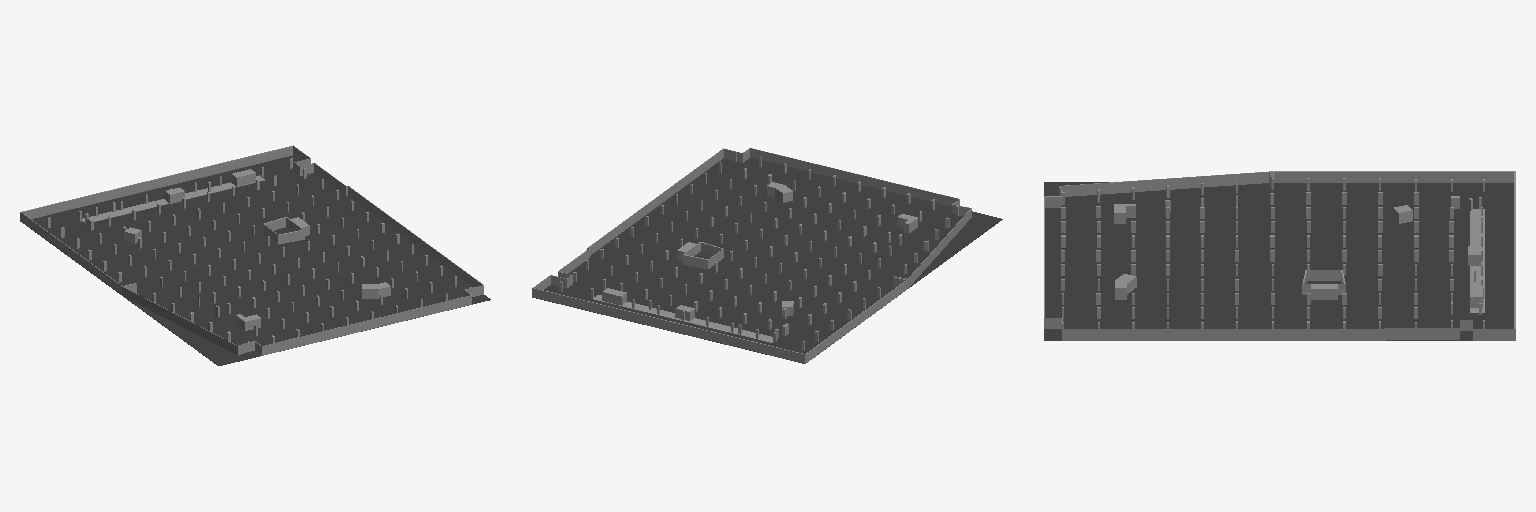
--- Facts derived from the render (not from the file) ---
The picture shows the robot from 3 angles, left to right: view 1: azimuth 30°, elevation 25°; view 2: azimuth 150°, elevation 25°; view 3: azimuth 270°, elevation 25°; orthographic projection.
Model P1 with 4 links and 3 joints (3 fixed), rooted at world, posed all joints at 0.
Links seen in each view (by area): view 1: ground, outer_wall, stairs; view 2: ground, outer_wall, stairs; view 3: ground, outer_wall, stairs.
Boxes of the visible links, bbox=[...] form: ground: bbox=[20, 156, 490, 365]; outer_wall: bbox=[20, 145, 483, 355]; stairs: bbox=[47, 158, 456, 343]; ground: bbox=[536, 158, 1002, 363]; outer_wall: bbox=[532, 148, 971, 363]; stairs: bbox=[559, 157, 949, 350]; ground: bbox=[1044, 182, 1513, 340]; outer_wall: bbox=[1044, 171, 1515, 340]; stairs: bbox=[1061, 178, 1484, 328].
Size in the robot's own frame: 92.5 by 116 by 3.1 metres.
Geometry: primitives only (box / cylinder / sphere), no mesh files.

The robot description file, URDF, robot "P1":
<?xml version="1.0" ?>
<robot name="P1">

  <link name="world">
  </link>

  <joint name="world_to_ground" type="fixed">
    <parent link="world"/>
    <child link="ground"/>
  </joint>

  <joint name="world_to_stairs" type="fixed">
    <parent link="world"/>
    <child link="stairs"/>
  </joint>

  <joint name="world_to_outer_wall" type="fixed">
    <parent link="world"/>
    <child link="outer_wall"/>
    <origin rpy="0  0  0" xyz="0  0  0"/>
  </joint>

  <link name="outer_wall">
    <collision name="__1">
      <origin rpy="0  0  0" xyz="-1.33208  44.13956   1.524"/>
      <geometry>
        <box size=".225778 79.78978 3.048"/>
      </geometry>
    </collision>
    <visual name="__1">
      <origin rpy="0  0  0" xyz="-1.33208  44.13956   1.524"/>
      <geometry>
        <box size=".225778 79.78978 3.048"/>
      </geometry>
      <material name="grey">
        <color rgba="0.627 0.627 0.627 1"/>
      </material>
    </visual>
    <visual name="__2">
      <origin rpy="0  0  0" xyz="-1.64817  83.9216    1.524"/>
      <geometry>
        <box size=".4064 .225778 3.048"/>
      </geometry>
      <material name="grey">
        <color rgba="0.627 0.627 0.627 1"/>
      </material>
    </visual>
    <visual name="__3">
      <origin rpy="0  0  0" xyz="-1.94169  93.06719   1.524"/>
      <geometry>
        <box size=".180622 18.51378 3.048"/>
      </geometry>
      <material name="grey">
        <color rgba="0.627 0.627 0.627 1"/>
      </material>
    </visual>
    <visual name="__4">
      <origin rpy="0  0  0" xyz="-4.38009  102.4144     1.524"/>
      <geometry>
        <box size="5.057422 .180622 3.048"/>
      </geometry>
      <material name="grey">
        <color rgba="0.627 0.627 0.627 1"/>
      </material>
    </visual>
    <visual name="__5">
      <origin rpy="0  0  0" xyz="-6.81849  104.0384     1.524"/>
      <geometry>
        <box size=".180622 3.070578 3.048"/>
      </geometry>
      <material name="grey">
        <color rgba="0.627 0.627 0.627 1"/>
      </material>
    </visual>
    <visual name="__6">
      <origin rpy="0  0  0" xyz="-4.064   105.6656    1.524"/>
      <geometry>
        <box size="5.6896 .180622 3.048"/>
      </geometry>
      <material name="grey">
        <color rgba="0.627 0.627 0.627 1"/>
      </material>
    </visual>
    <visual name="__7">
      <origin rpy="0  0  0" xyz="-1.3305  110.9472    1.524"/>
      <geometry>
        <box size=".225778 10.38578 3.048"/>
      </geometry>
      <material name="grey">
        <color rgba="0.627 0.627 0.627 1"/>
      </material>
    </visual>
    <visual name="__8">
      <origin rpy="0  0  0" xyz="-47.4577  115.982     1.524"/>
      <geometry>
        <box size="92.02861 .316088 3.048"/>
      </geometry>
      <material name="grey">
        <color rgba="0.627 0.627 0.627 1"/>
      </material>
    </visual>
    <visual name="__9">
      <origin rpy="0  0  0" xyz="-3.22862  4.17688  1.524"/>
      <geometry>
        <box size="4.017256 .135466 3.048"/>
      </geometry>
      <material name="grey">
        <color rgba="0.627 0.627 0.627 1"/>
      </material>
    </visual>
    <visual name="__10">
      <origin rpy="0  0  0" xyz="-6.92979  4.19946  1.524"/>
      <geometry>
        <box size="2.122312 .180622 3.048"/>
      </geometry>
      <material name="grey">
        <color rgba="0.627 0.627 0.627 1"/>
      </material>
    </visual>
    <visual name="__11">
      <origin rpy="0  0  0" xyz="-5.55347  4.40266  1.524"/>
      <geometry>
        <box size=".633766 .587022 3.048"/>
      </geometry>
      <material name="grey">
        <color rgba="0.627 0.627 0.627 1"/>
      </material>
    </visual>
    <visual name="__12">
      <origin rpy="0  0  0" xyz="-7.87964  2.05458  1.524"/>
      <geometry>
        <box size=".225778 4.109156 3.048"/>
      </geometry>
      <material name="grey">
        <color rgba="0.627 0.627 0.627 1"/>
      </material>
    </visual>
    <visual name="__13">
      <origin rpy="0  0  0" xyz="-43.3042   -0.09031   1.524"/>
      <geometry>
        <box size="71.07484 .180622 3.048"/>
      </geometry>
      <material name="grey">
        <color rgba="0.627 0.627 0.627 1"/>
      </material>
    </visual>
    <visual name="__14">
      <origin rpy="0  0  0" xyz="-78.9561   2.032    1.524"/>
      <geometry>
        <box size=".225778 4.064 3.048"/>
      </geometry>
      <material name="grey">
        <color rgba="0.627 0.627 0.627 1"/>
      </material>
    </visual>
    <visual name="__15">
      <origin rpy="0  0  0" xyz="-79.7689    4.15432   1.524"/>
      <geometry>
        <box size="1.851378 .180622 3.048"/>
      </geometry>
      <material name="grey">
        <color rgba="0.627 0.627 0.627 1"/>
      </material>
    </visual>
    <visual name="__16">
      <origin rpy="0  0  0" xyz="-80.9865    4.42524   1.524"/>
      <geometry>
        <box size=".588609 .903112 3.048"/>
      </geometry>
      <material name="grey">
        <color rgba="0.627 0.627 0.627 1"/>
      </material>
    </visual>
    <visual name="__17">
      <origin rpy="0       0       0.16062" xyz="-83.193     3.84435   1.524"/>
      <geometry>
        <box size="3.904381 .17833 3.048"/>
      </geometry>
      <material name="grey">
        <color rgba="0.627 0.627 0.627 1"/>
      </material>
    </visual>
    <visual name="__18">
      <origin rpy="0       0       0.16095" xyz="-89.3362   30.07934   1.524"/>
      <geometry>
        <box size=".187107 53.5695 3.048"/>
      </geometry>
      <material name="grey">
        <color rgba="0.627 0.627 0.627 1"/>
      </material>
    </visual>
    <visual name="__19">
      <origin rpy="0  0  0" xyz="-93.58492  86.33901   1.524"/>
      <geometry>
        <box size=".225778 59.6069 3.048"/>
      </geometry>
      <material name="grey">
        <color rgba="0.627 0.627 0.627 1"/>
      </material>
    </visual>
    <visual name="__20">
      <origin rpy="0  0  0" xyz="-91.7351   56.42187   1.524"/>
      <geometry>
        <box size="3.475391 .22578 3.048"/>
      </geometry>
      <material name="grey">
        <color rgba="0.627 0.627 0.627 1"/>
      </material>
    </visual>
    <visual name="__21">
      <origin rpy="0      0      0.1615" xyz="-91.6656   55.74328   1.524"/>
      <geometry>
        <box size="3.421301 .22287 3.048"/>
      </geometry>
      <material name="grey">
        <color rgba="0.627 0.627 0.627 1"/>
      </material>
    </visual>
    <visual name="__22">
      <origin rpy="0  0  0" xyz="-89.5209   56.21708   1.524"/>
      <geometry>
        <box size=".948266 .63218 3.048"/>
      </geometry>
      <material name="grey">
        <color rgba="0.627 0.627 0.627 1"/>
      </material>
    </visual>
  </link>
  <link name="stairs">
<!--     <inertial>
      <mass value="1"/>
      <origin rpy="0  0  0" xyz="0  0  0"/>
      <inertia ixx="100" ixy="0" ixz="0" iyy="100" iyz="0" izz="100"/>
    </inertial> -->
    <collision name="__23">
      <origin rpy="0  0  0" xyz="-72.0231  18.4912   1.524"/>
      <geometry>
        <box size="5.508978 2.8448 3.048"/>
      </geometry>
    </collision>
    <visual name="__23">
      <origin rpy="0  0  0" xyz="-72.0231  18.4912   1.524"/>
      <geometry>
        <box size="5.508978 2.8448 3.048"/>
      </geometry>
      <material name="grey">
        <color rgba="0.627 0.627 0.627 1"/>
      </material>
    </visual>
    <visual name="__24">
      <origin rpy="0  0  0" xyz="-73.9648   21.22312   1.524"/>
      <geometry>
        <box size="1.6256 2.61902 3.048"/>
      </geometry>
      <material name="grey">
        <color rgba="0.627 0.627 0.627 1"/>
      </material>
    </visual>
    <visual name="__25">
      <origin rpy="0      0      0.4704" xyz="-71.6619   88.32427   1.524"/>
      <geometry>
        <box size="3.394271 3.8573 3.048"/>
      </geometry>
      <material name="grey">
        <color rgba="0.627 0.627 0.627 1"/>
      </material>
    </visual>
    <visual name="__26">
      <origin rpy="0  0  0" xyz="-27.432    18.71698   1.524"/>
      <geometry>
        <box size="4.380088 3.20604 3.048"/>
      </geometry>
      <material name="grey">
        <color rgba="0.627 0.627 0.627 1"/>
      </material>
    </visual>
    <visual name="__27">
      <origin rpy="0       0      -0.50529" xyz="-30.8904  19.8324   1.524"/>
      <geometry>
        <box size="4.850808 3.5175 3.048"/>
      </geometry>
      <material name="grey">
        <color rgba="0.627 0.627 0.627 1"/>
      </material>
    </visual>
    <visual name="__28">
      <origin rpy="0  0  0" xyz="-26.3031   68.86221   1.524"/>
      <geometry>
        <box size="2.8448 6.68302 3.048"/>
      </geometry>
      <material name="grey">
        <color rgba="0.627 0.627 0.627 1"/>
      </material>
    </visual>
    <visual name="__29">
      <origin rpy="0  0  0" xyz="-36.0793  68.8848   1.524"/>
      <geometry>
        <box size=".180622 9.07627 3.048"/>
      </geometry>
      <material name="grey">
        <color rgba="0.627 0.627 0.627 1"/>
      </material>
    </visual>
    <visual name="__30">
      <origin rpy="0  0  0" xyz="-27.8836   68.88437   1.524"/>
      <geometry>
        <box size=".316088 10.7288 3.048"/>
      </geometry>
      <material name="grey">
        <color rgba="0.627 0.627 0.627 1"/>
      </material>
    </visual>
    <visual name="__31">
      <origin rpy="0       0      -0.09798" xyz="-32.0176   64.12729   1.524"/>
      <geometry>
        <box size="7.945656 .43238 3.048"/>
      </geometry>
      <material name="grey">
        <color rgba="0.627 0.627 0.627 1"/>
      </material>
    </visual>
    <visual name="__32">
      <origin rpy="0       0       0.09596" xyz="-32.0188   73.61091   1.524"/>
      <geometry>
        <box size="7.936766 .50714 3.048"/>
      </geometry>
      <material name="grey">
        <color rgba="0.627 0.627 0.627 1"/>
      </material>
    </visual>
    <visual name="__33">
      <origin rpy="0  0  0" xyz="-23.5276  106.5671    1.524"/>
      <geometry>
        <box size="6.592712 3.16089 3.048"/>
      </geometry>
      <material name="grey">
        <color rgba="0.627 0.627 0.627 1"/>
      </material>
    </visual>
    <visual name="__34">
      <origin rpy="0  0  0" xyz="-25.4226  108.3056    1.524"/>
      <geometry>
        <box size=".632178 .31609 3.048"/>
      </geometry>
      <material name="grey">
        <color rgba="0.627 0.627 0.627 1"/>
      </material>
    </visual>
    <visual name="__35">
      <origin rpy="0  0  0" xyz="-47.2101  106.0252    1.524"/>
      <geometry>
        <box size="5.012266 3.07058 3.048"/>
      </geometry>
      <material name="grey">
        <color rgba="0.627 0.627 0.627 1"/>
      </material>
    </visual>
    <visual name="__36">
      <origin rpy="0  0  0" xyz="-4.75262000e+01   1.06680000e+02   6.35000000e-02"/>
      <geometry>
        <box size="60.82453 3.6576 .127"/>
      </geometry>
      <material name="grey">
        <color rgba="0.627 0.627 0.627 1"/>
      </material>
    </visual>
    <visual name="__37">
      <origin rpy="0  0  0" xyz="-78.43519  101.3291     1.524"/>
      <geometry>
        <box size=".995009 2.4384 3.048"/>
      </geometry>
      <material name="grey">
        <color rgba="0.627 0.627 0.627 1"/>
      </material>
    </visual>
    <visual name="__38">
      <origin rpy="0  0  0" xyz="-88.4597  108.3408    1.524"/>
      <geometry>
        <box size=".903112 .58702 3.048"/>
      </geometry>
      <material name="grey">
        <color rgba="0.627 0.627 0.627 1"/>
      </material>
    </visual>
    <visual name="__39">
      <origin rpy="0  0  0" xyz="-88.4597   91.57547   1.524"/>
      <geometry>
        <box size=".903112 .63218 3.048"/>
      </geometry>
      <material name="grey">
        <color rgba="0.627 0.627 0.627 1"/>
      </material>
    </visual>
    <visual name="__40">
      <origin rpy="0  0  0" xyz="-88.6178  100.426     1.524"/>
      <geometry>
        <box size="1.220788 .63218 3.048"/>
      </geometry>
      <material name="grey">
        <color rgba="0.627 0.627 0.627 1"/>
      </material>
    </visual>
    <visual name="__41">
      <origin rpy="0  0  0" xyz="-72.6101  100.426     1.524"/>
      <geometry>
        <box size=".633766 .90311 3.048"/>
      </geometry>
      <material name="grey">
        <color rgba="0.627 0.627 0.627 1"/>
      </material>
    </visual>
    <visual name="__42">
      <origin rpy="0  0  0" xyz="-64.2112  100.426     1.524"/>
      <geometry>
        <box size=".632178 1.2192 3.048"/>
      </geometry>
      <material name="grey">
        <color rgba="0.627 0.627 0.627 1"/>
      </material>
    </visual>
    <visual name="__43">
      <origin rpy="0  0  0" xyz="-55.8348  100.426     1.524"/>
      <geometry>
        <box size=".587022 1.2192 3.048"/>
      </geometry>
      <material name="grey">
        <color rgba="0.627 0.627 0.627 1"/>
      </material>
    </visual>
    <visual name="__44">
      <origin rpy="0  0  0" xyz="-47.4585  100.426     1.524"/>
      <geometry>
        <box size=".632178 1.2192 3.048"/>
      </geometry>
      <material name="grey">
        <color rgba="0.627 0.627 0.627 1"/>
      </material>
    </visual>
    <visual name="__45">
      <origin rpy="0  0  0" xyz="-39.08209  100.426      1.524"/>
      <geometry>
        <box size=".587022 .63377 3.048"/>
      </geometry>
      <material name="grey">
        <color rgba="0.627 0.627 0.627 1"/>
      </material>
    </visual>
    <visual name="__46">
      <origin rpy="0  0  0" xyz="-30.6832  100.426     1.524"/>
      <geometry>
        <box size=".588609 .90311 3.048"/>
      </geometry>
      <material name="grey">
        <color rgba="0.627 0.627 0.627 1"/>
      </material>
    </visual>
    <visual name="__47">
      <origin rpy="0  0  0" xyz="-22.3068  100.426     1.524"/>
      <geometry>
        <box size=".903112 .6322 3.048"/>
      </geometry>
      <material name="grey">
        <color rgba="0.627 0.627 0.627 1"/>
      </material>
    </visual>
    <visual name="__48">
      <origin rpy="0  0  0" xyz="-16.5269  100.426     1.524"/>
      <geometry>
        <box size=".9047 .63218 3.048"/>
      </geometry>
      <material name="grey">
        <color rgba="0.627 0.627 0.627 1"/>
      </material>
    </visual>
    <visual name="__49">
      <origin rpy="0  0  0" xyz="-6.45724  100.426      1.524"/>
      <geometry>
        <box size=".903112 .63218 3.048"/>
      </geometry>
      <material name="grey">
        <color rgba="0.627 0.627 0.627 1"/>
      </material>
    </visual>
    <visual name="__50">
      <origin rpy="0  0  0" xyz="-5.55413  91.57547   1.524"/>
      <geometry>
        <box size=".632178 .63218 3.048"/>
      </geometry>
      <material name="grey">
        <color rgba="0.627 0.627 0.627 1"/>
      </material>
    </visual>
    <visual name="__51">
      <origin rpy="0  0  0" xyz="-5.55413  82.74755   1.524"/>
      <geometry>
        <box size=".903112 .58702 3.048"/>
      </geometry>
      <material name="grey">
        <color rgba="0.627 0.627 0.627 1"/>
      </material>
    </visual>
    <visual name="__52">
      <origin rpy="0  0  0" xyz="-5.55413  73.89707   1.524"/>
      <geometry>
        <box size=".903112 .58702 3.048"/>
      </geometry>
      <material name="grey">
        <color rgba="0.627 0.627 0.627 1"/>
      </material>
    </visual>
    <visual name="__53">
      <origin rpy="0  0  0" xyz="-5.55413  65.06916   1.524"/>
      <geometry>
        <box size=".903112 .63218 3.048"/>
      </geometry>
      <material name="grey">
        <color rgba="0.627 0.627 0.627 1"/>
      </material>
    </visual>
    <visual name="__54">
      <origin rpy="0  0  0" xyz="-5.55413  56.21867   1.524"/>
      <geometry>
        <box size=".903112 .63218 3.048"/>
      </geometry>
      <material name="grey">
        <color rgba="0.627 0.627 0.627 1"/>
      </material>
    </visual>
    <visual name="__55">
      <origin rpy="0  0  0" xyz="-5.55413  47.39076   1.524"/>
      <geometry>
        <box size=".903112 .58702 3.048"/>
      </geometry>
      <material name="grey">
        <color rgba="0.627 0.627 0.627 1"/>
      </material>
    </visual>
    <visual name="__56">
      <origin rpy="0  0  0" xyz="-5.55413  38.85636   1.524"/>
      <geometry>
        <box size=".632178 .58702 3.048"/>
      </geometry>
      <material name="grey">
        <color rgba="0.627 0.627 0.627 1"/>
      </material>
    </visual>
    <visual name="__57">
      <origin rpy="0  0  0" xyz="-5.55413  30.32196   1.524"/>
      <geometry>
        <box size=".632178 .58702 3.048"/>
      </geometry>
      <material name="grey">
        <color rgba="0.627 0.627 0.627 1"/>
      </material>
    </visual>
    <visual name="__58">
      <origin rpy="0  0  0" xyz="-5.55413  21.78756   1.524"/>
      <geometry>
        <box size=".632178 .58702 3.048"/>
      </geometry>
      <material name="grey">
        <color rgba="0.627 0.627 0.627 1"/>
      </material>
    </visual>
    <visual name="__59">
      <origin rpy="0  0  0" xyz="-5.55413  13.25316   1.524"/>
      <geometry>
        <box size=".632178 .58702 3.048"/>
      </geometry>
      <material name="grey">
        <color rgba="0.627 0.627 0.627 1"/>
      </material>
    </visual>
    <visual name="__60">
      <origin rpy="0  0  0" xyz="-13.9305   91.57547   1.524"/>
      <geometry>
        <box size=".58702 .90311 3.048"/>
      </geometry>
      <material name="grey">
        <color rgba="0.627 0.627 0.627 1"/>
      </material>
    </visual>
    <visual name="__61">
      <origin rpy="0  0  0" xyz="-13.9305   82.74755   1.524"/>
      <geometry>
        <box size=".58702 .94827 3.048"/>
      </geometry>
      <material name="grey">
        <color rgba="0.627 0.627 0.627 1"/>
      </material>
    </visual>
    <visual name="__62">
      <origin rpy="0  0  0" xyz="-13.9305   73.89707   1.524"/>
      <geometry>
        <box size=".58702 .58702 3.048"/>
      </geometry>
      <material name="grey">
        <color rgba="0.627 0.627 0.627 1"/>
      </material>
    </visual>
    <visual name="__63">
      <origin rpy="0  0  0" xyz="-13.9305   65.06916   1.524"/>
      <geometry>
        <box size=".58702 .63218 3.048"/>
      </geometry>
      <material name="grey">
        <color rgba="0.627 0.627 0.627 1"/>
      </material>
    </visual>
    <visual name="__64">
      <origin rpy="0  0  0" xyz="-13.9305   56.21867   1.524"/>
      <geometry>
        <box size=".58702 .63218 3.048"/>
      </geometry>
      <material name="grey">
        <color rgba="0.627 0.627 0.627 1"/>
      </material>
    </visual>
    <visual name="__65">
      <origin rpy="0  0  0" xyz="-13.9305   47.39076   1.524"/>
      <geometry>
        <box size=".58702 .58702 3.048"/>
      </geometry>
      <material name="grey">
        <color rgba="0.627 0.627 0.627 1"/>
      </material>
    </visual>
    <visual name="__66">
      <origin rpy="0  0  0" xyz="-13.9305   38.85636   1.524"/>
      <geometry>
        <box size=".58702 .58702 3.048"/>
      </geometry>
      <material name="grey">
        <color rgba="0.627 0.627 0.627 1"/>
      </material>
    </visual>
    <visual name="__67">
      <origin rpy="0  0  0" xyz="-13.9305   30.32196   1.524"/>
      <geometry>
        <box size=".58702 .58702 3.048"/>
      </geometry>
      <material name="grey">
        <color rgba="0.627 0.627 0.627 1"/>
      </material>
    </visual>
    <visual name="__68">
      <origin rpy="0  0  0" xyz="-13.9305   21.78756   1.524"/>
      <geometry>
        <box size=".58702 .94827 3.048"/>
      </geometry>
      <material name="grey">
        <color rgba="0.627 0.627 0.627 1"/>
      </material>
    </visual>
    <visual name="__69">
      <origin rpy="0  0  0" xyz="-13.9305   13.25316   1.524"/>
      <geometry>
        <box size=".58702 .94827 3.048"/>
      </geometry>
      <material name="grey">
        <color rgba="0.627 0.627 0.627 1"/>
      </material>
    </visual>
    <visual name="__70">
      <origin rpy="0  0  0" xyz="-13.9305    4.40266   1.524"/>
      <geometry>
        <box size=".58702 .58702 3.048"/>
      </geometry>
      <material name="grey">
        <color rgba="0.627 0.627 0.627 1"/>
      </material>
    </visual>
    <visual name="__71">
      <origin rpy="0  0  0" xyz="-22.3068   91.57547   1.524"/>
      <geometry>
        <box size=".632178 .90311 3.048"/>
      </geometry>
      <material name="grey">
        <color rgba="0.627 0.627 0.627 1"/>
      </material>
    </visual>
    <visual name="__72">
      <origin rpy="0  0  0" xyz="-22.3068   82.74755   1.524"/>
      <geometry>
        <box size=".632178 .58702 3.048"/>
      </geometry>
      <material name="grey">
        <color rgba="0.627 0.627 0.627 1"/>
      </material>
    </visual>
    <visual name="__73">
      <origin rpy="0  0  0" xyz="-22.3068   73.89707   1.524"/>
      <geometry>
        <box size=".632178 1.2192 3.048"/>
      </geometry>
      <material name="grey">
        <color rgba="0.627 0.627 0.627 1"/>
      </material>
    </visual>
    <visual name="__73a">
      <origin rpy="0  0  0" xyz="-22.3068   65.06916   1.524"/>
      <geometry>
        <box size=".632178 .90311 3.048"/>
      </geometry>
      <material name="grey">
        <color rgba="0.627 0.627 0.627 1"/>
      </material>
    </visual>
    <visual name="__74">
      <origin rpy="0  0  0" xyz="-22.3068   56.21867   1.524"/>
      <geometry>
        <box size=".632178 .90311 3.048"/>
      </geometry>
      <material name="grey">
        <color rgba="0.627 0.627 0.627 1"/>
      </material>
    </visual>
    <visual name="__75">
      <origin rpy="0  0  0" xyz="-22.3068   47.39076   1.524"/>
      <geometry>
        <box size=".632178 .94827 3.048"/>
      </geometry>
      <material name="grey">
        <color rgba="0.627 0.627 0.627 1"/>
      </material>
    </visual>
    <visual name="__76">
      <origin rpy="0  0  0" xyz="-22.3068   38.85636   1.524"/>
      <geometry>
        <box size=".632178 .94827 3.048"/>
      </geometry>
      <material name="grey">
        <color rgba="0.627 0.627 0.627 1"/>
      </material>
    </visual>
    <visual name="__77">
      <origin rpy="0  0  0" xyz="-22.3068   30.32196   1.524"/>
      <geometry>
        <box size=".632178 .58702 3.048"/>
      </geometry>
      <material name="grey">
        <color rgba="0.627 0.627 0.627 1"/>
      </material>
    </visual>
    <visual name="__78">
      <origin rpy="0  0  0" xyz="-22.3068   21.78756   1.524"/>
      <geometry>
        <box size=".632178 .94827 3.048"/>
      </geometry>
      <material name="grey">
        <color rgba="0.627 0.627 0.627 1"/>
      </material>
    </visual>
    <visual name="__79">
      <origin rpy="0  0  0" xyz="-22.3068   13.25316   1.524"/>
      <geometry>
        <box size=".632178 1.2192 3.048"/>
      </geometry>
      <material name="grey">
        <color rgba="0.627 0.627 0.627 1"/>
      </material>
    </visual>
    <visual name="__80">
      <origin rpy="0  0  0" xyz="-22.3068    4.40266   1.524"/>
      <geometry>
        <box size=".632178 .64911 3.048"/>
      </geometry>
      <material name="grey">
        <color rgba="0.627 0.627 0.627 1"/>
      </material>
    </visual>
    <visual name="__81">
      <origin rpy="0  0  0" xyz="-30.6832   91.57547   1.524"/>
      <geometry>
        <box size=".58702 .63218 3.048"/>
      </geometry>
      <material name="grey">
        <color rgba="0.627 0.627 0.627 1"/>
      </material>
    </visual>
    <visual name="__82">
      <origin rpy="0  0  0" xyz="-30.6832   82.74755   1.524"/>
      <geometry>
        <box size=".58702 .94827 3.048"/>
      </geometry>
      <material name="grey">
        <color rgba="0.627 0.627 0.627 1"/>
      </material>
    </visual>
    <visual name="__83">
      <origin rpy="0  0  0" xyz="-30.6832   56.21867   1.524"/>
      <geometry>
        <box size=".58702 .63218 3.048"/>
      </geometry>
      <material name="grey">
        <color rgba="0.627 0.627 0.627 1"/>
      </material>
    </visual>
    <visual name="__84">
      <origin rpy="0  0  0" xyz="-30.6832   47.39076   1.524"/>
      <geometry>
        <box size=".58702 .94827 3.048"/>
      </geometry>
      <material name="grey">
        <color rgba="0.627 0.627 0.627 1"/>
      </material>
    </visual>
    <visual name="__85">
      <origin rpy="0  0  0" xyz="-30.6832   38.85636   1.524"/>
      <geometry>
        <box size=".58702 .58702 3.048"/>
      </geometry>
      <material name="grey">
        <color rgba="0.627 0.627 0.627 1"/>
      </material>
    </visual>
    <visual name="__86">
      <origin rpy="0  0  0" xyz="-30.6832   30.32196   1.524"/>
      <geometry>
        <box size=".58702 .58702 3.048"/>
      </geometry>
      <material name="grey">
        <color rgba="0.627 0.627 0.627 1"/>
      </material>
    </visual>
    <visual name="__87">
      <origin rpy="0  0  0" xyz="-30.6832   13.25316   1.524"/>
      <geometry>
        <box size=".58702 .58702 3.048"/>
      </geometry>
      <material name="grey">
        <color rgba="0.627 0.627 0.627 1"/>
      </material>
    </visual>
    <visual name="__88">
      <origin rpy="0  0  0" xyz="-30.6832    4.40266   1.524"/>
      <geometry>
        <box size=".58702 .90311 3.048"/>
      </geometry>
      <material name="grey">
        <color rgba="0.627 0.627 0.627 1"/>
      </material>
    </visual>
    <visual name="__89">
      <origin rpy="0  0  0" xyz="-39.08209  91.57547   1.524"/>
      <geometry>
        <box size=".58702 .63218 3.048"/>
      </geometry>
      <material name="grey">
        <color rgba="0.627 0.627 0.627 1"/>
      </material>
    </visual>
    <visual name="__90">
      <origin rpy="0  0  0" xyz="-39.08209  82.74755   1.524"/>
      <geometry>
        <box size=".58702 1.2192 3.048"/>
      </geometry>
      <material name="grey">
        <color rgba="0.627 0.627 0.627 1"/>
      </material>
    </visual>
    <visual name="__91">
      <origin rpy="0  0  0" xyz="-39.08209  73.89707   1.524"/>
      <geometry>
        <box size=".58702 .90311 3.048"/>
      </geometry>
      <material name="grey">
        <color rgba="0.627 0.627 0.627 1"/>
      </material>
    </visual>
    <visual name="__92">
      <origin rpy="0  0  0" xyz="-39.08209  65.06916   1.524"/>
      <geometry>
        <box size=".58702 .63218 3.048"/>
      </geometry>
      <material name="grey">
        <color rgba="0.627 0.627 0.627 1"/>
      </material>
    </visual>
    <visual name="__93">
      <origin rpy="0  0  0" xyz="-39.08209  56.21867   1.524"/>
      <geometry>
        <box size=".58702 .63218 3.048"/>
      </geometry>
      <material name="grey">
        <color rgba="0.627 0.627 0.627 1"/>
      </material>
    </visual>
    <visual name="__94">
      <origin rpy="0  0  0" xyz="-39.08209  47.39076   1.524"/>
      <geometry>
        <box size=".58702 .58702 3.048"/>
      </geometry>
      <material name="grey">
        <color rgba="0.627 0.627 0.627 1"/>
      </material>
    </visual>
    <visual name="__95">
      <origin rpy="0  0  0" xyz="-39.08209  38.85636   1.524"/>
      <geometry>
        <box size=".58702 .94827 3.048"/>
      </geometry>
      <material name="grey">
        <color rgba="0.627 0.627 0.627 1"/>
      </material>
    </visual>
    <visual name="__96">
      <origin rpy="0  0  0" xyz="-39.08209  30.32196   1.524"/>
      <geometry>
        <box size=".58702 .94827 3.048"/>
      </geometry>
      <material name="grey">
        <color rgba="0.627 0.627 0.627 1"/>
      </material>
    </visual>
    <visual name="__97">
      <origin rpy="0  0  0" xyz="-39.08209  21.78756   1.524"/>
      <geometry>
        <box size=".58702 1.2192 3.048"/>
      </geometry>
      <material name="grey">
        <color rgba="0.627 0.627 0.627 1"/>
      </material>
    </visual>
    <visual name="__98">
      <origin rpy="0  0  0" xyz="-39.08209  13.25316   1.524"/>
      <geometry>
        <box size=".58702 .94827 3.048"/>
      </geometry>
      <material name="grey">
        <color rgba="0.627 0.627 0.627 1"/>
      </material>
    </visual>
    <visual name="__99">
      <origin rpy="0  0  0" xyz="-39.08209   4.40266   1.524"/>
      <geometry>
        <box size=".58702 .90311 3.048"/>
      </geometry>
      <material name="grey">
        <color rgba="0.627 0.627 0.627 1"/>
      </material>
    </visual>
    <visual name="__100">
      <origin rpy="0  0  0" xyz="-47.45849  91.57547   1.524"/>
      <geometry>
        <box size=".632178 1.2192 3.048"/>
      </geometry>
      <material name="grey">
        <color rgba="0.627 0.627 0.627 1"/>
      </material>
    </visual>
    <visual name="__101">
      <origin rpy="0  0  0" xyz="-47.45849  82.74755   1.524"/>
      <geometry>
        <box size=".632178 .94827 3.048"/>
      </geometry>
      <material name="grey">
        <color rgba="0.627 0.627 0.627 1"/>
      </material>
    </visual>
    <visual name="__102">
      <origin rpy="0  0  0" xyz="-47.45849  73.89707   1.524"/>
      <geometry>
        <box size=".632178 1.2192 3.048"/>
      </geometry>
      <material name="grey">
        <color rgba="0.627 0.627 0.627 1"/>
      </material>
    </visual>
    <visual name="__103">
      <origin rpy="0  0  0" xyz="-47.45849  65.06916   1.524"/>
      <geometry>
        <box size=".632178 .63218 3.048"/>
      </geometry>
      <material name="grey">
        <color rgba="0.627 0.627 0.627 1"/>
      </material>
    </visual>
    <visual name="__104">
      <origin rpy="0  0  0" xyz="-47.45849  56.21867   1.524"/>
      <geometry>
        <box size=".632178 1.2192 3.048"/>
      </geometry>
      <material name="grey">
        <color rgba="0.627 0.627 0.627 1"/>
      </material>
    </visual>
    <visual name="__105">
      <origin rpy="0  0  0" xyz="-47.45849  47.39076   1.524"/>
      <geometry>
        <box size=".632178 .94827 3.048"/>
      </geometry>
      <material name="grey">
        <color rgba="0.627 0.627 0.627 1"/>
      </material>
    </visual>
    <visual name="__106">
      <origin rpy="0  0  0" xyz="-47.45849  38.85636   1.524"/>
      <geometry>
        <box size=".632178 .94827 3.048"/>
      </geometry>
      <material name="grey">
        <color rgba="0.627 0.627 0.627 1"/>
      </material>
    </visual>
    <visual name="__107">
      <origin rpy="0  0  0" xyz="-47.45849  30.32196   1.524"/>
      <geometry>
        <box size=".632178 1.2192 3.048"/>
      </geometry>
      <material name="grey">
        <color rgba="0.627 0.627 0.627 1"/>
      </material>
    </visual>
    <visual name="__108">
      <origin rpy="0  0  0" xyz="-47.45849  21.78756   1.524"/>
      <geometry>
        <box size=".632178 1.2192 3.048"/>
      </geometry>
      <material name="grey">
        <color rgba="0.627 0.627 0.627 1"/>
      </material>
    </visual>
    <visual name="__109">
      <origin rpy="0  0  0" xyz="-47.45849  13.25316   1.524"/>
      <geometry>
        <box size=".632178 1.2192 3.048"/>
      </geometry>
      <material name="grey">
        <color rgba="0.627 0.627 0.627 1"/>
      </material>
    </visual>
    <visual name="__110">
      <origin rpy="0  0  0" xyz="-47.45849   4.40266   1.524"/>
      <geometry>
        <box size=".632178 .90311 3.048"/>
      </geometry>
      <material name="grey">
        <color rgba="0.627 0.627 0.627 1"/>
      </material>
    </visual>
    <visual name="__111">
      <origin rpy="0  0  0" xyz="-55.8348   91.57547   1.524"/>
      <geometry>
        <box size=".58702 1.2192 3.048"/>
      </geometry>
      <material name="grey">
        <color rgba="0.627 0.627 0.627 1"/>
      </material>
    </visual>
    <visual name="__112">
      <origin rpy="0  0  0" xyz="-55.8348   82.74755   1.524"/>
      <geometry>
        <box size=".58702 .94827 3.048"/>
      </geometry>
      <material name="grey">
        <color rgba="0.627 0.627 0.627 1"/>
      </material>
    </visual>
    <visual name="__113">
      <origin rpy="0  0  0" xyz="-55.8348   73.89707   1.524"/>
      <geometry>
        <box size=".58702 .58702 3.048"/>
      </geometry>
      <material name="grey">
        <color rgba="0.627 0.627 0.627 1"/>
      </material>
    </visual>
    <visual name="__114">
      <origin rpy="0  0  0" xyz="-55.8348   65.06916   1.524"/>
      <geometry>
        <box size=".58702 .63218 3.048"/>
      </geometry>
      <material name="grey">
        <color rgba="0.627 0.627 0.627 1"/>
      </material>
    </visual>
    <visual name="__115">
      <origin rpy="0  0  0" xyz="-55.8348   56.21867   1.524"/>
      <geometry>
        <box size=".58702 1.2192 3.048"/>
      </geometry>
      <material name="grey">
        <color rgba="0.627 0.627 0.627 1"/>
      </material>
    </visual>
    <visual name="__116">
      <origin rpy="0  0  0" xyz="-55.8348   47.39076   1.524"/>
      <geometry>
        <box size=".58702 .58702 3.048"/>
      </geometry>
      <material name="grey">
        <color rgba="0.627 0.627 0.627 1"/>
      </material>
    </visual>
    <visual name="__117">
      <origin rpy="0  0  0" xyz="-55.8348   38.85636   1.524"/>
      <geometry>
        <box size=".58702 .94827 3.048"/>
      </geometry>
      <material name="grey">
        <color rgba="0.627 0.627 0.627 1"/>
      </material>
    </visual>
    <visual name="__118">
      <origin rpy="0  0  0" xyz="-55.8348   30.32196   1.524"/>
      <geometry>
        <box size=".58702 .90311 3.048"/>
      </geometry>
      <material name="grey">
        <color rgba="0.627 0.627 0.627 1"/>
      </material>
    </visual>
    <visual name="__119">
      <origin rpy="0  0  0" xyz="-55.8348   21.78756   1.524"/>
      <geometry>
        <box size=".58702 .58702 3.048"/>
      </geometry>
      <material name="grey">
        <color rgba="0.627 0.627 0.627 1"/>
      </material>
    </visual>
    <visual name="__120">
      <origin rpy="0  0  0" xyz="-55.8348   13.25316   1.524"/>
      <geometry>
        <box size=".58702 .94827 3.048"/>
      </geometry>
      <material name="grey">
        <color rgba="0.627 0.627 0.627 1"/>
      </material>
    </visual>
    <visual name="__121">
      <origin rpy="0  0  0" xyz="-55.8348    4.40266   1.524"/>
      <geometry>
        <box size=".58702 1.2192 3.048"/>
      </geometry>
      <material name="grey">
        <color rgba="0.627 0.627 0.627 1"/>
      </material>
    </visual>
    <visual name="__122">
      <origin rpy="0  0  0" xyz="-64.2112   91.57547   1.524"/>
      <geometry>
        <box size=".632178 1.2192 3.048"/>
      </geometry>
      <material name="grey">
        <color rgba="0.627 0.627 0.627 1"/>
      </material>
    </visual>
    <visual name="__123">
      <origin rpy="0  0  0" xyz="-64.2112   82.74755   1.524"/>
      <geometry>
        <box size=".632178 1.2192 3.048"/>
      </geometry>
      <material name="grey">
        <color rgba="0.627 0.627 0.627 1"/>
      </material>
    </visual>
    <visual name="__124">
      <origin rpy="0  0  0" xyz="-64.2112   73.89707   1.524"/>
      <geometry>
        <box size=".632178 .58702 3.048"/>
      </geometry>
      <material name="grey">
        <color rgba="0.627 0.627 0.627 1"/>
      </material>
    </visual>
    <visual name="__125">
      <origin rpy="0  0  0" xyz="-64.2112   65.06916   1.524"/>
      <geometry>
        <box size=".632178 .90311 3.048"/>
      </geometry>
      <material name="grey">
        <color rgba="0.627 0.627 0.627 1"/>
      </material>
    </visual>
    <visual name="__126">
      <origin rpy="0  0  0" xyz="-64.2112   56.21867   1.524"/>
      <geometry>
        <box size=".632178 .90311 3.048"/>
      </geometry>
      <material name="grey">
        <color rgba="0.627 0.627 0.627 1"/>
      </material>
    </visual>
    <visual name="__127">
      <origin rpy="0  0  0" xyz="-64.2112   47.39076   1.524"/>
      <geometry>
        <box size=".632178 .58702 3.048"/>
      </geometry>
      <material name="grey">
        <color rgba="0.627 0.627 0.627 1"/>
      </material>
    </visual>
    <visual name="__128">
      <origin rpy="0  0  0" xyz="-64.2112   38.85636   1.524"/>
      <geometry>
        <box size=".632178 1.2192 3.048"/>
      </geometry>
      <material name="grey">
        <color rgba="0.627 0.627 0.627 1"/>
      </material>
    </visual>
    <visual name="__129">
      <origin rpy="0  0  0" xyz="-64.2112   30.32196   1.524"/>
      <geometry>
        <box size=".632178 1.2192 3.048"/>
      </geometry>
      <material name="grey">
        <color rgba="0.627 0.627 0.627 1"/>
      </material>
    </visual>
    <visual name="__130">
      <origin rpy="0  0  0" xyz="-64.2112   21.78756   1.524"/>
      <geometry>
        <box size=".632178 1.2192 3.048"/>
      </geometry>
      <material name="grey">
        <color rgba="0.627 0.627 0.627 1"/>
      </material>
    </visual>
    <visual name="__131">
      <origin rpy="0  0  0" xyz="-64.2112   13.25316   1.524"/>
      <geometry>
        <box size=".632178 .94827 3.048"/>
      </geometry>
      <material name="grey">
        <color rgba="0.627 0.627 0.627 1"/>
      </material>
    </visual>
    <visual name="__132">
      <origin rpy="0  0  0" xyz="-64.2112    4.40266   1.524"/>
      <geometry>
        <box size=".632178 1.2192 3.048"/>
      </geometry>
      <material name="grey">
        <color rgba="0.627 0.627 0.627 1"/>
      </material>
    </visual>
    <visual name="__133">
      <origin rpy="0  0  0" xyz="-72.6101   91.57547   1.524"/>
      <geometry>
        <box size=".632178 1.2192 3.048"/>
      </geometry>
      <material name="grey">
        <color rgba="0.627 0.627 0.627 1"/>
      </material>
    </visual>
    <visual name="__134">
      <origin rpy="0  0  0" xyz="-72.6101   82.74755   1.524"/>
      <geometry>
        <box size=".632178 1.2192 3.048"/>
      </geometry>
      <material name="grey">
        <color rgba="0.627 0.627 0.627 1"/>
      </material>
    </visual>
    <visual name="__135">
      <origin rpy="0  0  0" xyz="-72.6101   73.89707   1.524"/>
      <geometry>
        <box size=".632178 .90311 3.048"/>
      </geometry>
      <material name="grey">
        <color rgba="0.627 0.627 0.627 1"/>
      </material>
    </visual>
    <visual name="__136">
      <origin rpy="0  0  0" xyz="-72.6101   65.06916   1.524"/>
      <geometry>
        <box size=".632178 1.2192 3.048"/>
      </geometry>
      <material name="grey">
        <color rgba="0.627 0.627 0.627 1"/>
      </material>
    </visual>
    <visual name="__137">
      <origin rpy="0  0  0" xyz="-72.6101   56.21867   1.524"/>
      <geometry>
        <box size=".632178 .90311 3.048"/>
      </geometry>
      <material name="grey">
        <color rgba="0.627 0.627 0.627 1"/>
      </material>
    </visual>
    <visual name="__138">
      <origin rpy="0  0  0" xyz="-72.6101   47.39076   1.524"/>
      <geometry>
        <box size=".632178 .58702 3.048"/>
      </geometry>
      <material name="grey">
        <color rgba="0.627 0.627 0.627 1"/>
      </material>
    </visual>
    <visual name="__139">
      <origin rpy="0  0  0" xyz="-72.6101   38.85636   1.524"/>
      <geometry>
        <box size=".632178 1.2192 3.048"/>
      </geometry>
      <material name="grey">
        <color rgba="0.627 0.627 0.627 1"/>
      </material>
    </visual>
    <visual name="__140">
      <origin rpy="0  0  0" xyz="-72.6101   30.32196   1.524"/>
      <geometry>
        <box size=".632178 .94827 3.048"/>
      </geometry>
      <material name="grey">
        <color rgba="0.627 0.627 0.627 1"/>
      </material>
    </visual>
    <visual name="__141">
      <origin rpy="0  0  0" xyz="-72.6101    4.40266   1.524"/>
      <geometry>
        <box size=".632178 1.2192 3.048"/>
      </geometry>
      <material name="grey">
        <color rgba="0.627 0.627 0.627 1"/>
      </material>
    </visual>
    <visual name="__142">
      <origin rpy="0  0  0" xyz="-80.9865   91.57547   1.524"/>
      <geometry>
        <box size=".58702 1.2192 3.048"/>
      </geometry>
      <material name="grey">
        <color rgba="0.627 0.627 0.627 1"/>
      </material>
    </visual>
    <visual name="__143">
      <origin rpy="0  0  0" xyz="-80.9865   82.74755   1.524"/>
      <geometry>
        <box size=".58702 1.2192 3.048"/>
      </geometry>
      <material name="grey">
        <color rgba="0.627 0.627 0.627 1"/>
      </material>
    </visual>
    <visual name="__144">
      <origin rpy="0  0  0" xyz="-80.9865   73.89707   1.524"/>
      <geometry>
        <box size=".58702 1.2192 3.048"/>
      </geometry>
      <material name="grey">
        <color rgba="0.627 0.627 0.627 1"/>
      </material>
    </visual>
    <visual name="__145">
      <origin rpy="0  0  0" xyz="-80.9865   65.06916   1.524"/>
      <geometry>
        <box size=".58702 1.2192 3.048"/>
      </geometry>
      <material name="grey">
        <color rgba="0.627 0.627 0.627 1"/>
      </material>
    </visual>
    <visual name="__146">
      <origin rpy="0  0  0" xyz="-89.3854   82.74755   1.524"/>
      <geometry>
        <box size="1.2192 .58702 3.048"/>
      </geometry>
      <material name="grey">
        <color rgba="0.627 0.627 0.627 1"/>
      </material>
    </visual>
    <visual name="__147">
      <origin rpy="0  0  0" xyz="-89.3628   73.89707   1.524"/>
      <geometry>
        <box size=".90311 .58702 3.048"/>
      </geometry>
      <material name="grey">
        <color rgba="0.627 0.627 0.627 1"/>
      </material>
    </visual>
    <visual name="__148">
      <origin rpy="0  0  0" xyz="-89.3628   65.06916   1.524"/>
      <geometry>
        <box size=".90311 .63218 3.048"/>
      </geometry>
      <material name="grey">
        <color rgba="0.627 0.627 0.627 1"/>
      </material>
    </visual>
    <visual name="__149">
      <origin rpy="0  0  0" xyz="-73.31     13.25316   1.524"/>
      <geometry>
        <box size=".58702 1.2192 3.048"/>
      </geometry>
      <material name="grey">
        <color rgba="0.627 0.627 0.627 1"/>
      </material>
    </visual>
    <visual name="__150">
      <origin rpy="0       0       0.18998" xyz="-82.4315   13.23508   1.524"/>
      <geometry>
        <box size="1.2192 .58702 3.048"/>
      </geometry>
      <material name="grey">
        <color rgba="0.627 0.627 0.627 1"/>
      </material>
    </visual>
    <visual name="__151">
      <origin rpy="0       0       0.18998" xyz="-83.8087   21.76498   1.524"/>
      <geometry>
        <box size="1.2192 .58702 3.048"/>
      </geometry>
      <material name="grey">
        <color rgba="0.627 0.627 0.627 1"/>
      </material>
    </visual>
    <visual name="__152">
      <origin rpy="0       0       0.18998" xyz="-85.186    30.29938   1.524"/>
      <geometry>
        <box size="1.2912 .58702 3.048"/>
      </geometry>
      <material name="grey">
        <color rgba="0.627 0.627 0.627 1"/>
      </material>
    </visual>
    <visual name="__153">
      <origin rpy="0       0       0.18998" xyz="-86.5632   38.83377   1.524"/>
      <geometry>
        <box size=".90311 .58702 3.048"/>
      </geometry>
      <material name="grey">
        <color rgba="0.627 0.627 0.627 1"/>
      </material>
    </visual>
    <visual name="__154">
      <origin rpy="0       0       0.18998" xyz="-87.963    47.36818   1.524"/>
      <geometry>
        <box size=".58702 .58702 3.048"/>
      </geometry>
      <material name="grey">
        <color rgba="0.627 0.627 0.627 1"/>
      </material>
    </visual>
    <visual name="__155">
      <origin rpy="0       0       0.15264" xyz="-76.4484   30.29938   1.524"/>
      <geometry>
        <box size=".58702 1.2912 3.048"/>
      </geometry>
      <material name="grey">
        <color rgba="0.627 0.627 0.627 1"/>
      </material>
    </visual>
    <visual name="__156">
      <origin rpy="0       0       0.15264" xyz="-77.82559  38.83377   1.524"/>
      <geometry>
        <box size=".58702 .58702 3.048"/>
      </geometry>
      <material name="grey">
        <color rgba="0.627 0.627 0.627 1"/>
      </material>
    </visual>
    <visual name="__157">
      <origin rpy="0       0       0.15264" xyz="-79.2028   47.36818   1.524"/>
      <geometry>
        <box size=".58702 .58702 3.048"/>
      </geometry>
      <material name="grey">
        <color rgba="0.627 0.627 0.627 1"/>
      </material>
    </visual>
    <visual name="__158">
      <origin rpy="0       0       0.15264" xyz="-80.6027  56.0832   1.524"/>
      <geometry>
        <box size=".58702 .90311 3.048"/>
      </geometry>
      <material name="grey">
        <color rgba="0.627 0.627 0.627 1"/>
      </material>
    </visual>
    <visual name="__159">
      <origin rpy="0  0  0" xyz="-78.39    107.5154    1.524"/>
      <geometry>
        <box size=".90311 .63218 3.048"/>
      </geometry>
      <material name="grey">
        <color rgba="0.627 0.627 0.627 1"/>
      </material>
    </visual>
    <visual name="__160">
      <origin rpy="0  0  0" xyz="-16.5269  107.5154    1.524"/>
      <geometry>
        <box size=".63218 .63218 3.048"/>
      </geometry>
      <material name="grey">
        <color rgba="0.627 0.627 0.627 1"/>
      </material>
    </visual>
    <visual name="__161">
      <origin rpy="0  0  0" xyz="-6.40644  108.3508     1.524"/>
      <geometry>
        <box size=".903112 .58702 3.048"/>
      </geometry>
      <material name="grey">
        <color rgba="0.627 0.627 0.627 1"/>
      </material>
    </visual>
    <visual name="__162">
      <origin rpy="0  0  0" xyz="-35.4245  106.1635    1.524"/>
      <geometry>
        <box size=".58702 .63218 3.048"/>
      </geometry>
      <material name="grey">
        <color rgba="0.627 0.627 0.627 1"/>
      </material>
    </visual>
    <visual name="__163">
      <origin rpy="0       0       0.46364" xyz="-77.5547  105.0318    1.524"/>
      <geometry>
        <box size="1.2192 .60579 3.048"/>
      </geometry>
      <material name="grey">
        <color rgba="0.627 0.627 0.627 1"/>
      </material>
    </visual>
    <visual name="__164">
      <origin rpy="0  0  0" xyz="-72.6101  107.8992    1.524"/>
      <geometry>
        <box size=".63218 .58702 3.048"/>
      </geometry>
      <material name="grey">
        <color rgba="0.627 0.627 0.627 1"/>
      </material>
    </visual>
    <visual name="__165">
      <origin rpy="0  0  0" xyz="-66.80759  107.8992     1.524"/>
      <geometry>
        <box size=".94827 .58702 3.048"/>
      </geometry>
      <material name="grey">
        <color rgba="0.627 0.627 0.627 1"/>
      </material>
    </visual>
    <visual name="__166">
      <origin rpy="0  0  0" xyz="-64.2112  107.8992    1.524"/>
      <geometry>
        <box size=".63218 .58702 3.048"/>
      </geometry>
      <material name="grey">
        <color rgba="0.627 0.627 0.627 1"/>
      </material>
    </visual>
    <visual name="__167">
      <origin rpy="0  0  0" xyz="-55.8348  107.8992    1.524"/>
      <geometry>
        <box size=".58702 .58702 3.048"/>
      </geometry>
      <material name="grey">
        <color rgba="0.627 0.627 0.627 1"/>
      </material>
    </visual>
    <visual name="__168">
      <origin rpy="0  0  0" xyz="-47.4585  107.8992    1.524"/>
      <geometry>
        <box size=".903112 .58702 3.048"/>
      </geometry>
      <material name="grey">
        <color rgba="0.627 0.627 0.627 1"/>
      </material>
    </visual>
    <visual name="__169">
      <origin rpy="0  0  0" xyz="-39.08213  107.8992     1.524"/>
      <geometry>
        <box size=".58702 .58702 3.048"/>
      </geometry>
      <material name="grey">
        <color rgba="0.627 0.627 0.627 1"/>
      </material>
    </visual>
    <visual name="__170">
      <origin rpy="0  0  0" xyz="-30.6832  107.8992    1.524"/>
      <geometry>
        <box size=".58702 .58702 3.048"/>
      </geometry>
      <material name="grey">
        <color rgba="0.627 0.627 0.627 1"/>
      </material>
    </visual>
  </link>

  <link name="ground">
    <inertial>
      <mass value="1"/>
      <origin rpy="0  0  0" xyz="0  0  0"/>
      <inertia ixx="10" ixy="0" ixz="0" iyy="10" iyz="0" izz="10"/>
    </inertial>
    <collision name="__172">
      <origin rpy="0  0  0" xyz="-4.74585000e+01   5.79797300e+01  -2.54000000e-02"/>
      <geometry>
        <box size="92.47858 116.321 .0508"/>
      </geometry>
    </collision>
    <visual name="__171">
      <origin rpy="0  0  0" xyz="-4.74585000e+01   5.79797300e+01  -2.54000000e-02"/>
      <geometry>
        <box size="92.47858 116.321 .0508"/>
      </geometry>
      <material name="dark_grey">
        <color rgba="0.3 0.3 0.3 1"/>
      </material>
    </visual>
  </link>
</robot>
